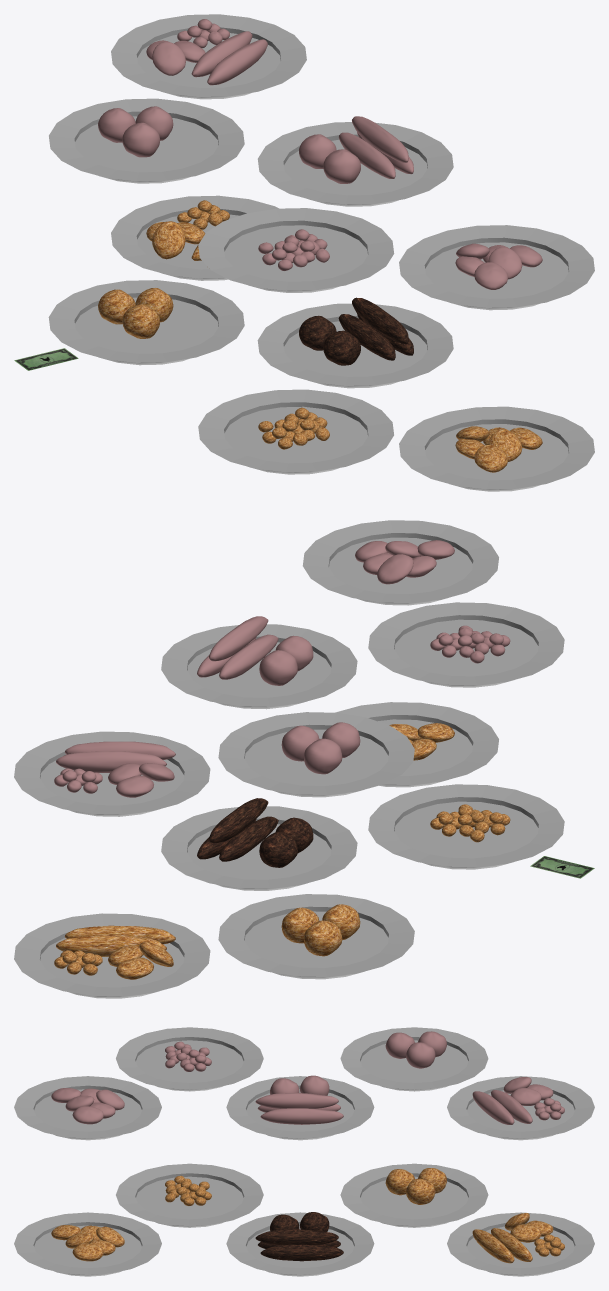
Rendered from ordersncashassets.fbx.
3 views of the same model, one above another, from view 1: azimuth 30°, elevation 25°; view 2: azimuth 150°, elevation 25°; view 3: azimuth 270°, elevation 25° (orthographic). The views are drawn at different scales.
Parts seen in each view (by area): view 1: pCylinder5, pCylinder7, pCylinder4, pCylinder8, pCylinder11, pCylinder6, pCylinder3, pCylinder10, pCylinder9, pCylinder2, chicken_tender14, chicken_tender10 (+21 smaller); view 2: pCylinder5, pCylinder7, pCylinder6, pCylinder8, pCylinder11, pCylinder3, pCylinder10, pCylinder2, pCylinder9, pCylinder4, chicken_tender12, chicken_tender5 (+20 smaller); view 3: pCylinder5, pCylinder7, pCylinder8, pCylinder6, pCylinder4, pCylinder11, pCylinder2, pCylinder9, pCylinder3, pCylinder10, chicken_tender11, chicken_tender7 (+22 smaller).
Part boxes in pixels (x1=…): pCylinder5: x1=198, y1=389, x2=393, y2=474; pCylinder7: x1=198, y1=208, x2=394, y2=292; pCylinder4: x1=399, y1=406, x2=594, y2=491; pCylinder8: x1=49, y1=98, x2=244, y2=183; pCylinder11: x1=399, y1=225, x2=594, y2=310; pCylinder6: x1=48, y1=280, x2=244, y2=365; pCylinder3: x1=257, y1=303, x2=453, y2=388; pCylinder10: x1=257, y1=122, x2=453, y2=206; pCylinder9: x1=111, y1=14, x2=306, y2=99; pCylinder2: x1=111, y1=195, x2=278, y2=280; chicken_tender14: x1=207, y1=39, x2=267, y2=85; chicken_tender10: x1=352, y1=116, x2=408, y2=162; pCylinder5: x1=368, y1=784, x2=564, y2=869; pCylinder7: x1=368, y1=602, x2=564, y2=687; pCylinder6: x1=218, y1=894, x2=414, y2=979; pCylinder8: x1=218, y1=712, x2=414, y2=797; pCylinder11: x1=302, y1=520, x2=498, y2=605; pCylinder3: x1=161, y1=806, x2=357, y2=890; pCylinder10: x1=161, y1=624, x2=357, y2=709; pCylinder2: x1=14, y1=913, x2=210, y2=998; pCylinder9: x1=14, y1=731, x2=210, y2=816; pCylinder4: x1=335, y1=702, x2=498, y2=787; chicken_tender12: x1=56, y1=751, x2=166, y2=772; chicken_tender5: x1=56, y1=935, x2=166, y2=956; pCylinder5: x1=116, y1=1163, x2=263, y2=1227; pCylinder7: x1=116, y1=1027, x2=263, y2=1091; pCylinder8: x1=340, y1=1027, x2=488, y2=1091; pCylinder6: x1=340, y1=1163, x2=488, y2=1227; pCylinder4: x1=14, y1=1212, x2=161, y2=1276; pCylinder11: x1=14, y1=1076, x2=161, y2=1140; pCylinder2: x1=447, y1=1212, x2=594, y2=1276; pCylinder9: x1=447, y1=1076, x2=594, y2=1140; pCylinder3: x1=226, y1=1212, x2=374, y2=1276; pCylinder10: x1=226, y1=1076, x2=374, y2=1140; chicken_tender11: x1=260, y1=1108, x2=343, y2=1124; chicken_tender7: x1=260, y1=1244, x2=343, y2=1261.
Size of the model in its own units: 4.41 by 2.28 by 7.1.
5 materials, 3 textured.
